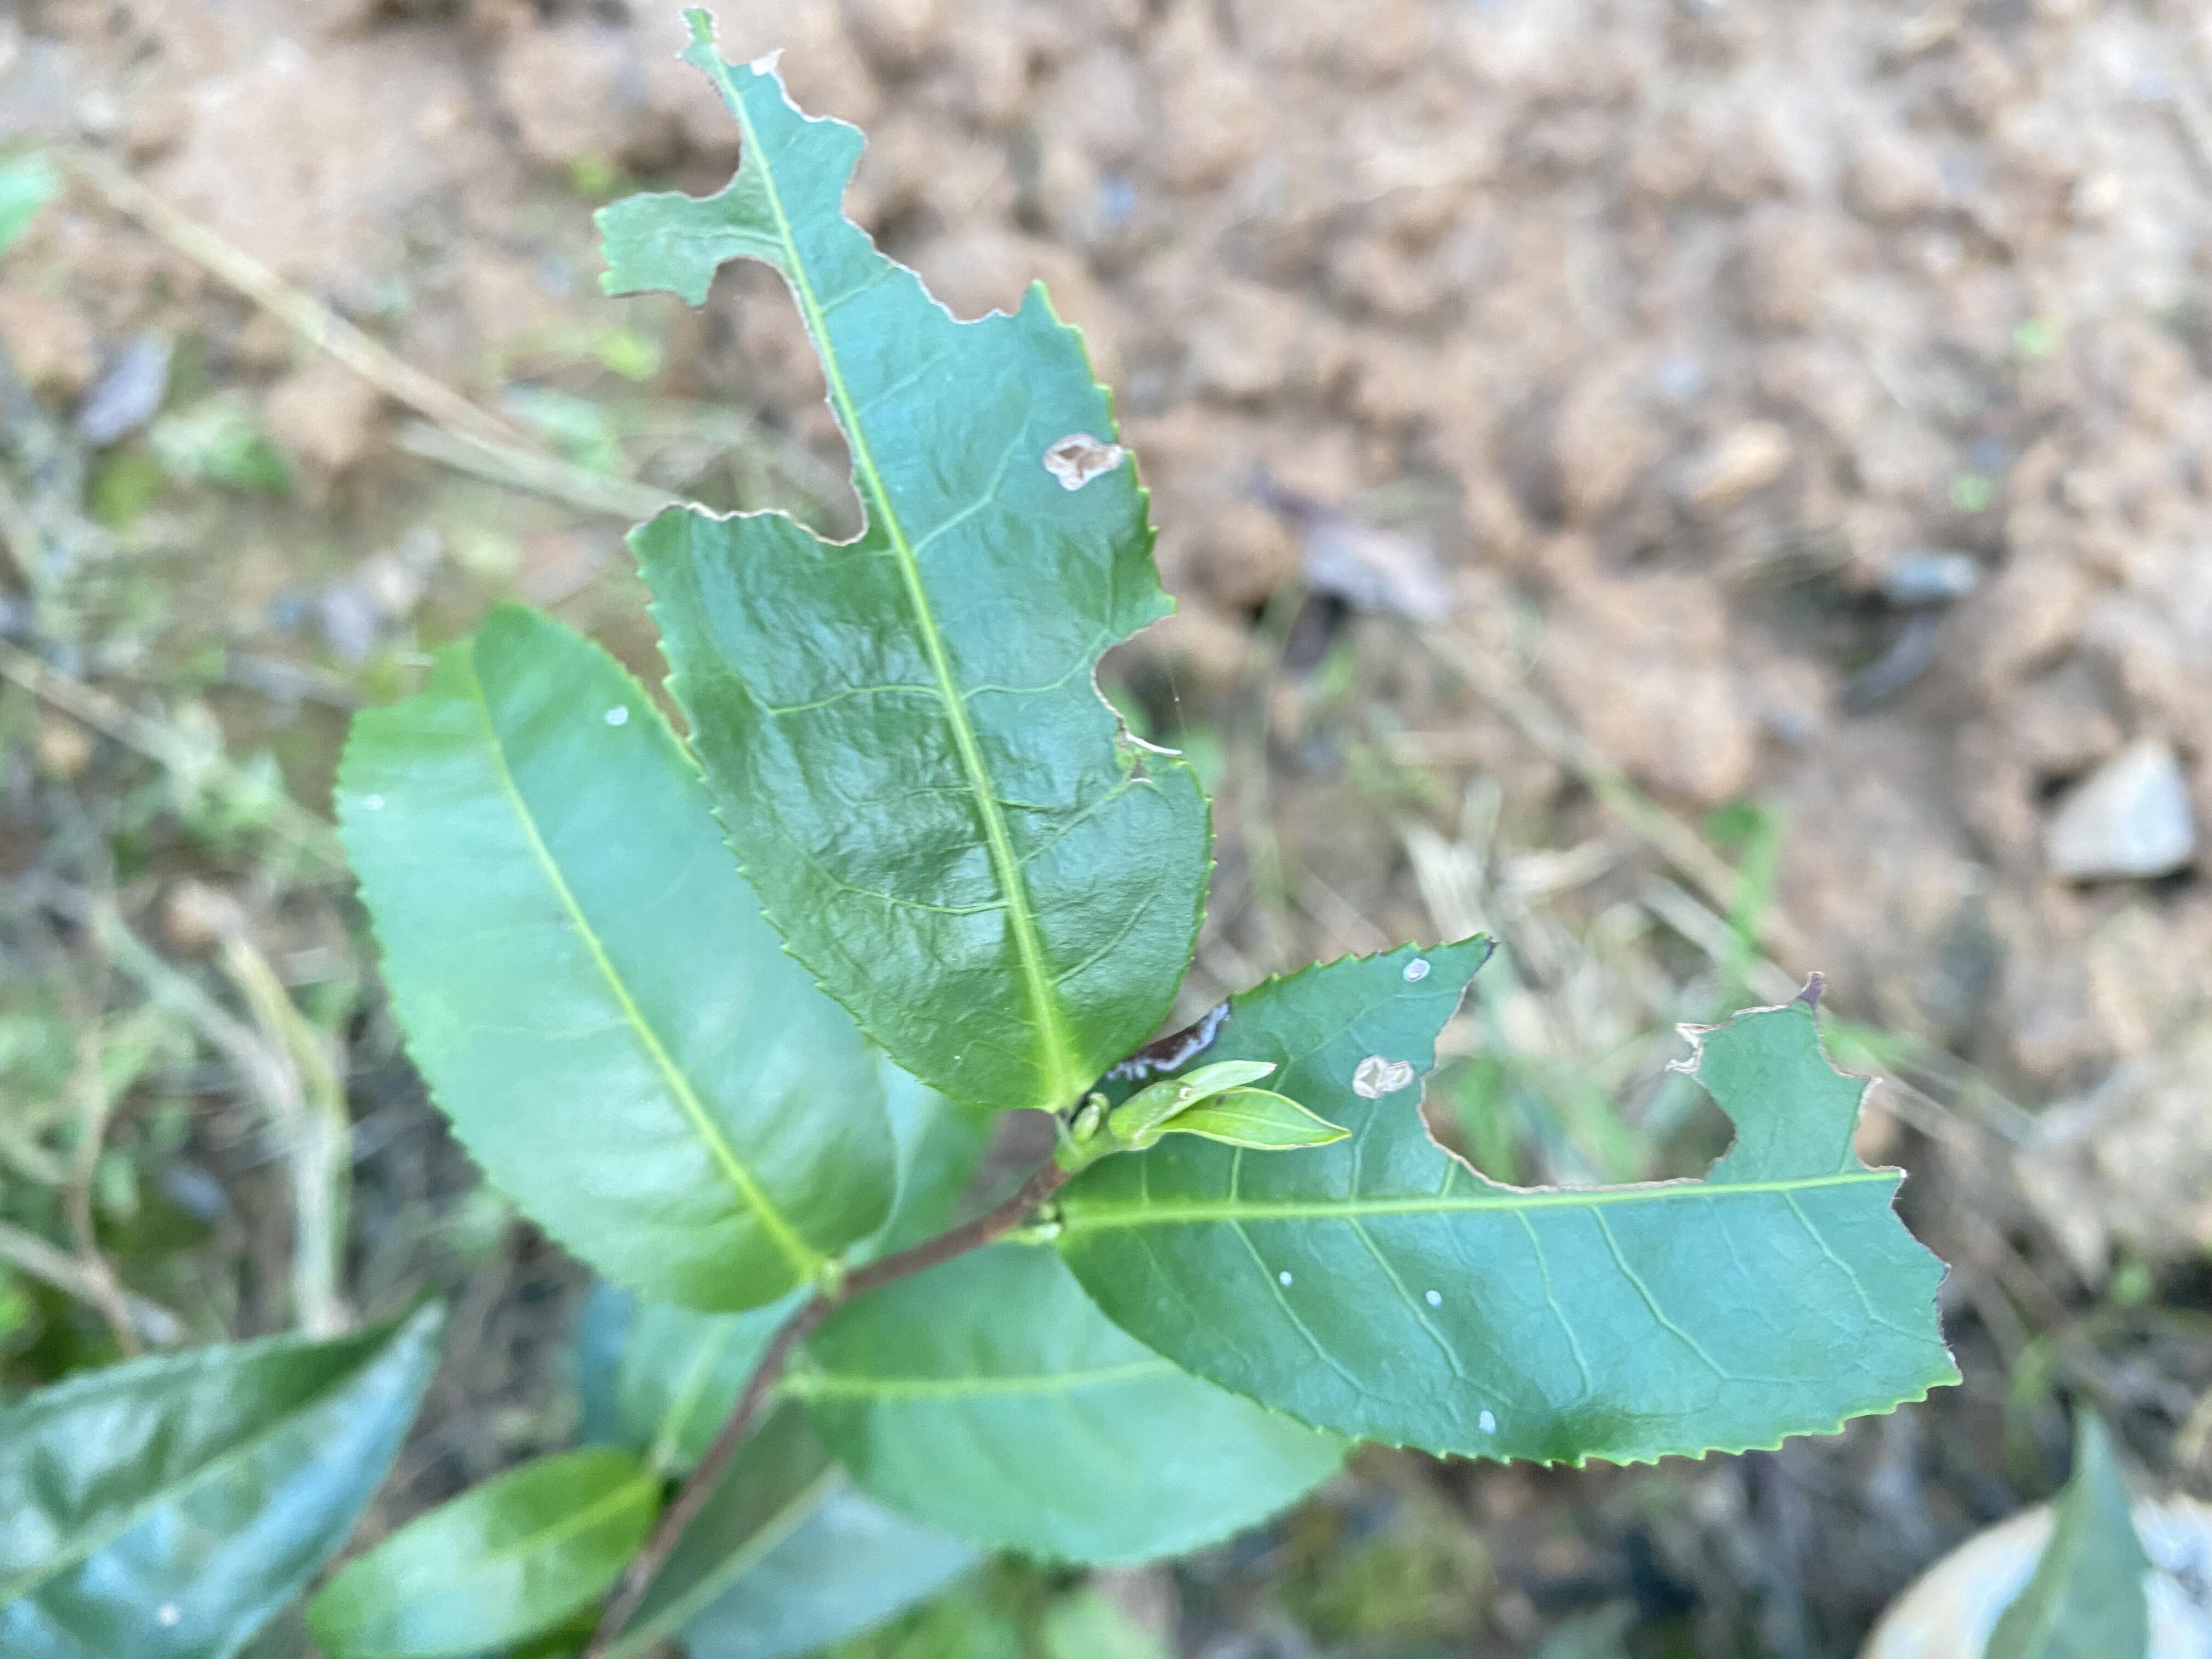chihuo_high: (592, 5, 1217, 1115), (1055, 932, 1968, 1466)
chihuo_low: (329, 603, 900, 1317)
